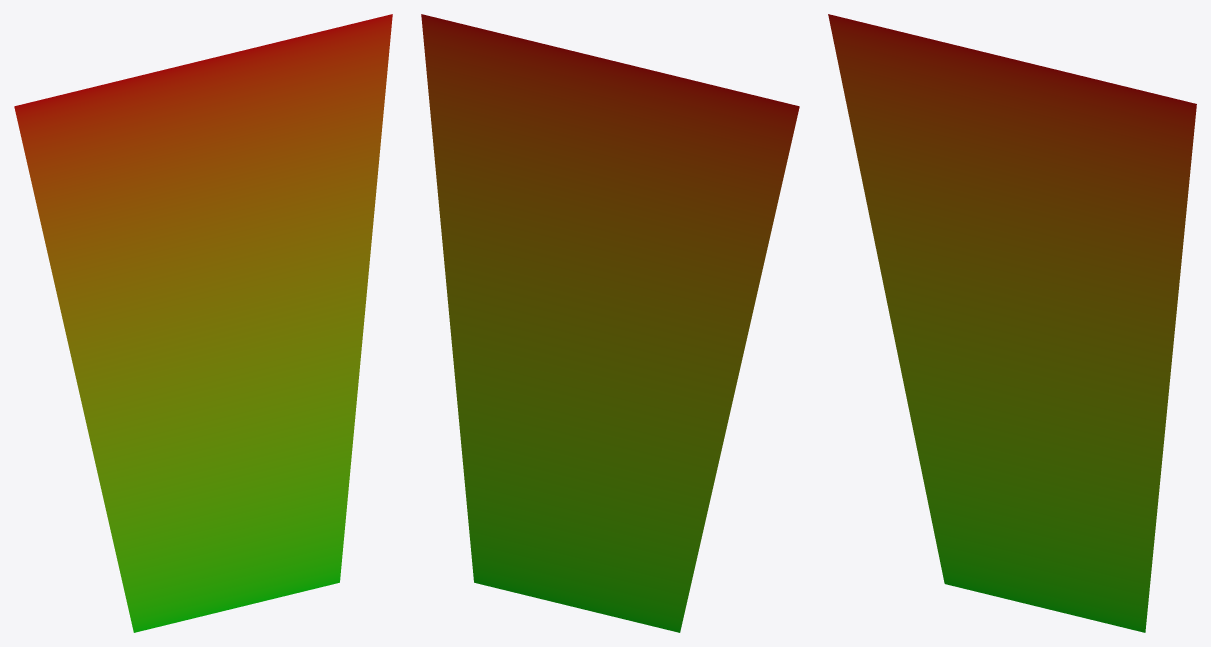
The model's file is Snake Plant_LOD3_Var3_sgtmY.fbx.
3 renders of one model, left to right at view 1: azimuth 30°, elevation 25°; view 2: azimuth 150°, elevation 25°; view 3: azimuth 330°, elevation 25°, orthographic. The views are drawn at different scales.
Parts seen in each view (by area): view 1: _9f17_Var3_LOD3; view 2: _9f17_Var3_LOD3; view 3: _9f17_Var3_LOD3.
Boxes of the visible parts, box(x1,y1,x2,y2) form: _9f17_Var3_LOD3: box(14, 14, 392, 632); _9f17_Var3_LOD3: box(421, 14, 799, 632); _9f17_Var3_LOD3: box(828, 14, 1196, 632).
Size of the model in its own units: 69.28 by 97.19 by 1.48e-05.
